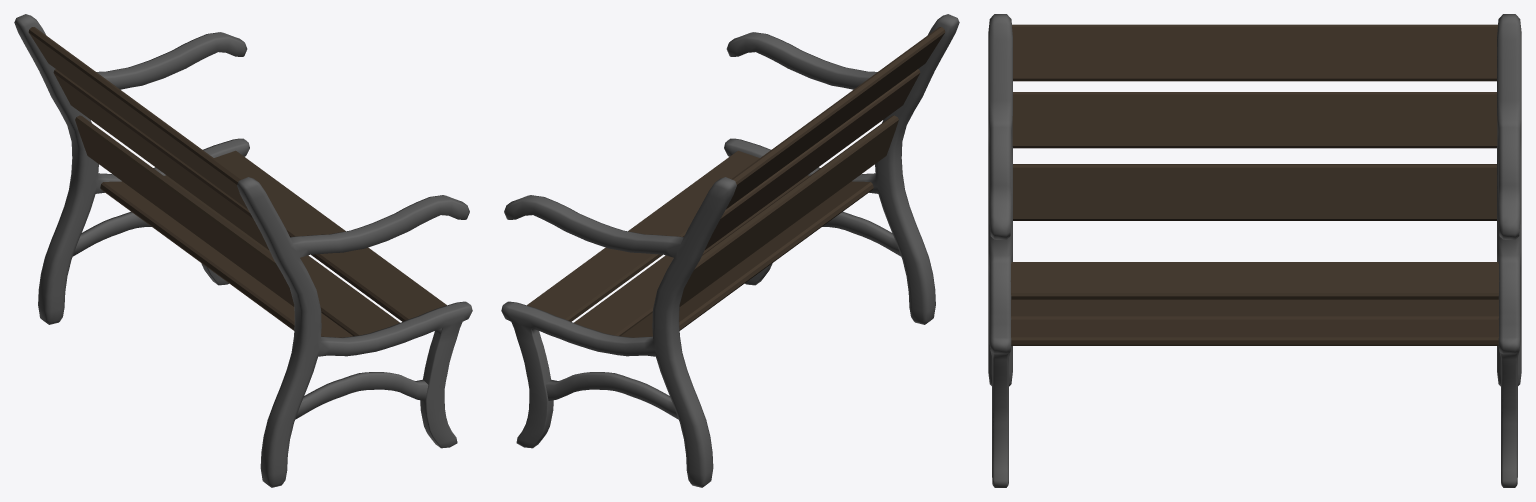
Rendered from Banco.fbx.
The picture shows the model from 3 angles, left to right: view 1: azimuth 30°, elevation 25°; view 2: azimuth 150°, elevation 25°; view 3: azimuth 270°, elevation 25°; orthographic projection. The views are drawn at different scales.
Parts seen in each view (by area): view 1: madera, Metal; view 2: madera, Metal; view 3: madera, Metal.
Boxes of the visible parts, <box> form: madera: <box>28,27,446,337</box>; Metal: <box>14,14,472,487</box>; madera: <box>527,27,945,337</box>; Metal: <box>501,14,959,487</box>; madera: <box>1010,24,1499,345</box>; Metal: <box>988,14,1521,487</box>.
Bounding box in the file's own units: 5.63 × 7.34 × 9.87.
